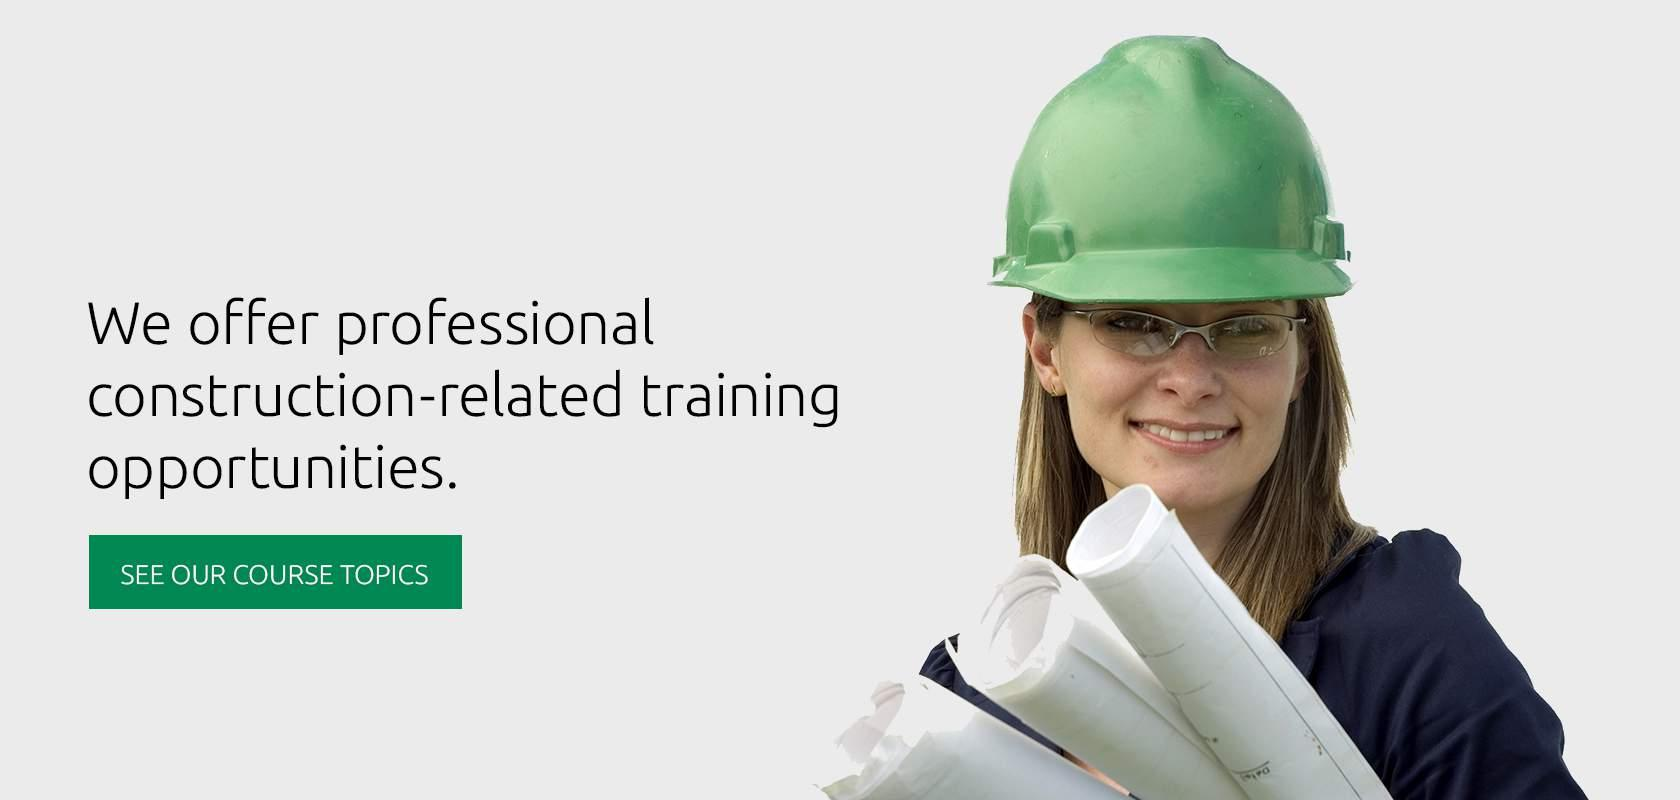helmet: (989, 32, 1361, 305)
